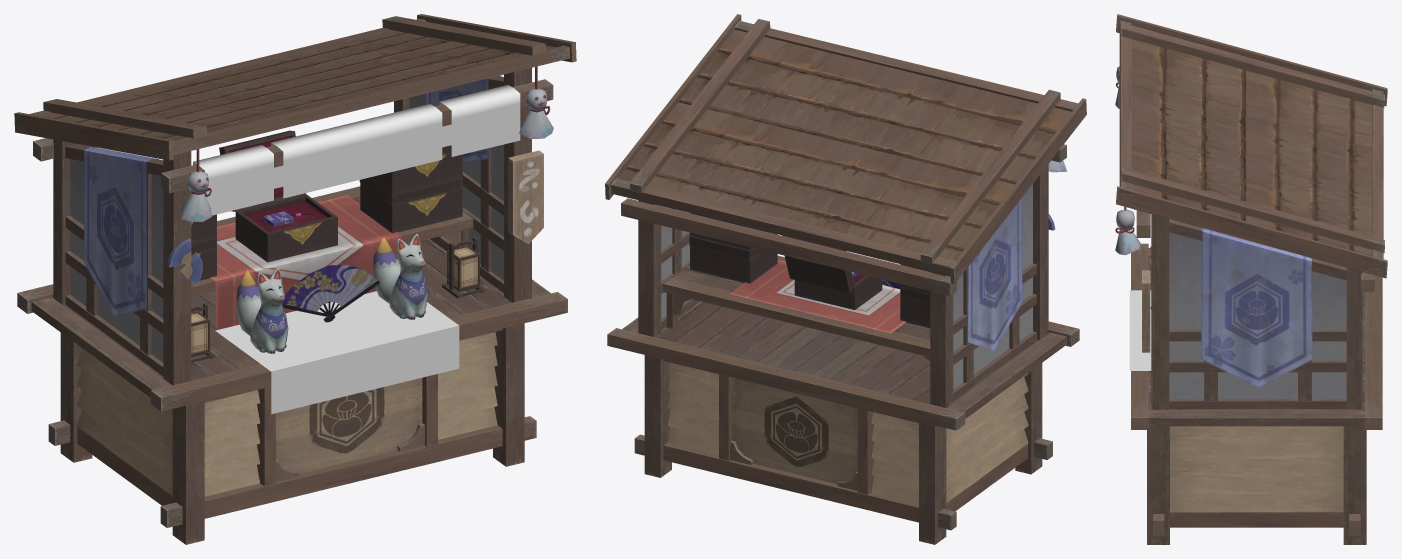
Rendered from Homeworld_Exterior_Dq_Build_TanWei_01_Lod0.fbx.
3 views of the same model, side by side, from view 1: azimuth 30°, elevation 25°; view 2: azimuth 150°, elevation 25°; view 3: azimuth 270°, elevation 25° (orthographic). The views are drawn at different scales.
Parts seen in each view (by area): view 1: Homeworld_Exterior_Dq_Build_TanWei_01_Lod0, Homeworld_Exterior_Dq_Build_TanWei_01_C_Vo, Homeworld_Exterior_Dq_Build_TanWei_01_B_Vo; view 2: Homeworld_Exterior_Dq_Build_TanWei_01_Lod0; view 3: Homeworld_Exterior_Dq_Build_TanWei_01_Lod0, Homeworld_Exterior_Dq_Build_TanWei_01_C_Vo, Homeworld_Exterior_Dq_Build_TanWei_01_B_Vo.
Part boxes in pixels (box(x1,y1,x2,y2)): Homeworld_Exterior_Dq_Build_TanWei_01_Lod0: box(14, 14, 576, 544); Homeworld_Exterior_Dq_Build_TanWei_01_C_Vo: box(193, 85, 520, 414); Homeworld_Exterior_Dq_Build_TanWei_01_B_Vo: box(181, 66, 553, 221); Homeworld_Exterior_Dq_Build_TanWei_01_Lod0: box(605, 14, 1086, 544); Homeworld_Exterior_Dq_Build_TanWei_01_Lod0: box(1116, 14, 1387, 544); Homeworld_Exterior_Dq_Build_TanWei_01_C_Vo: box(1129, 209, 1151, 370); Homeworld_Exterior_Dq_Build_TanWei_01_B_Vo: box(1115, 66, 1140, 255).
Size of the model in its own units: 2.98 by 2.99 by 1.97.
